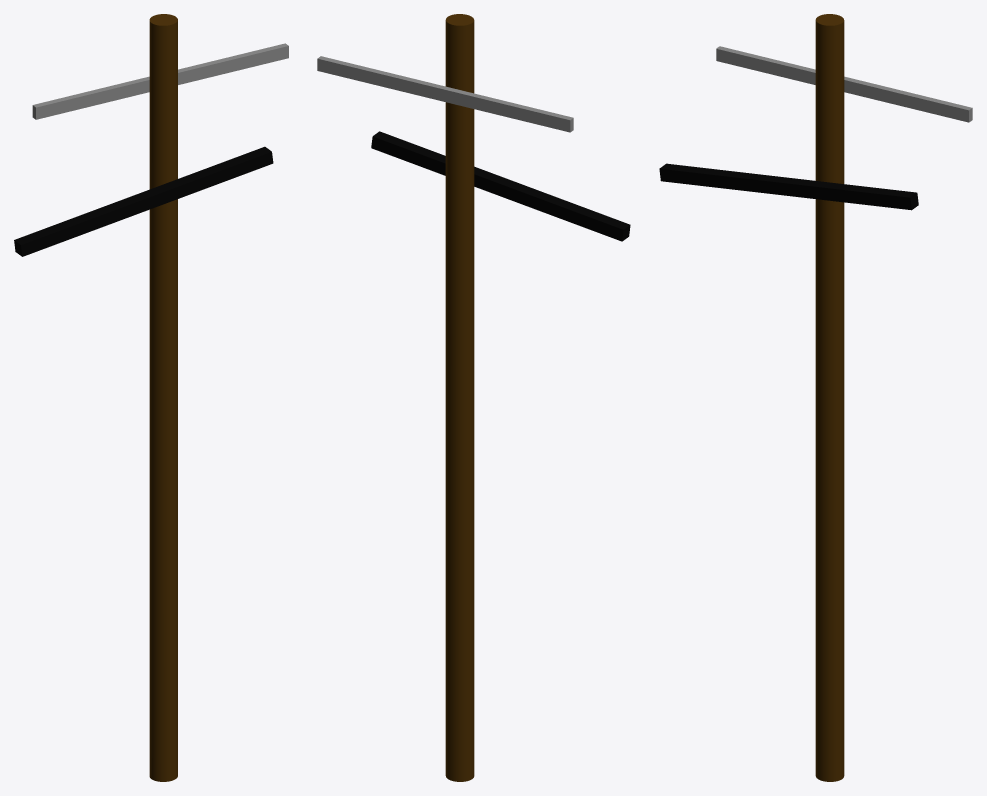
File: power_line_08.glb
3 views of the same model, side by side, from view 1: azimuth 30°, elevation 25°; view 2: azimuth 150°, elevation 25°; view 3: azimuth 330°, elevation 25° (orthographic).
Visible parts, largest first — view 1: PowerLine08; view 2: PowerLine08; view 3: PowerLine08.
Boxes of the visible parts, x1,y1,x2,y2 form: PowerLine08: (14, 14, 288, 781); PowerLine08: (317, 14, 630, 781); PowerLine08: (659, 14, 972, 781).
Bounding box in the file's own units: 7.99 × 20 × 1.17.
